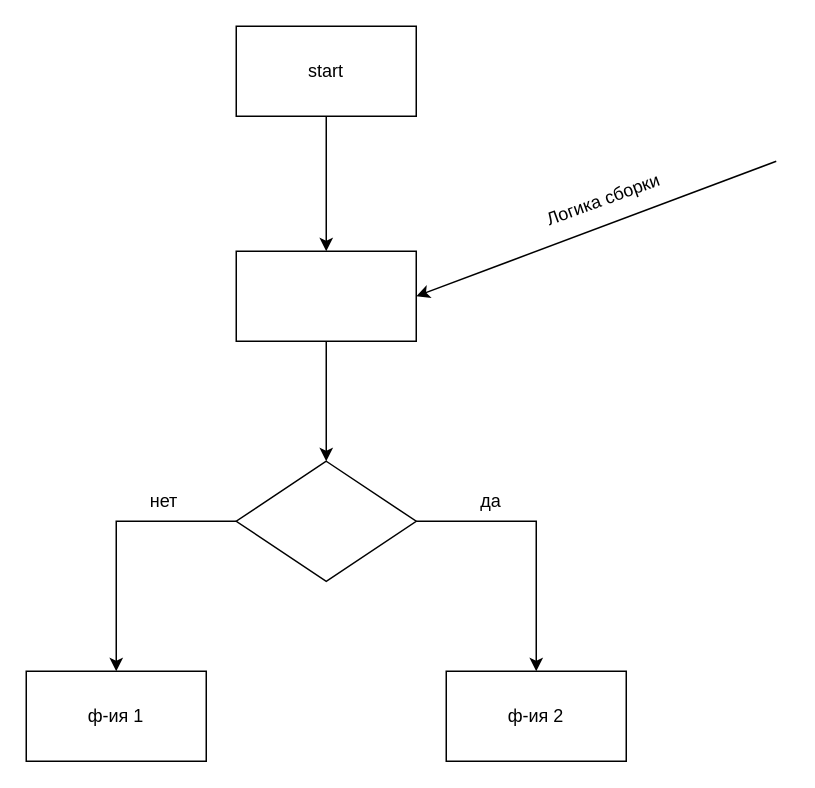
Image size: 815x788. Some labels were removed from this diagram. Here are the shapes that lost their labels. From the top down, the centre of each, then its label:
(x=325, y=295): game
(x=325, y=520): До банкротства
